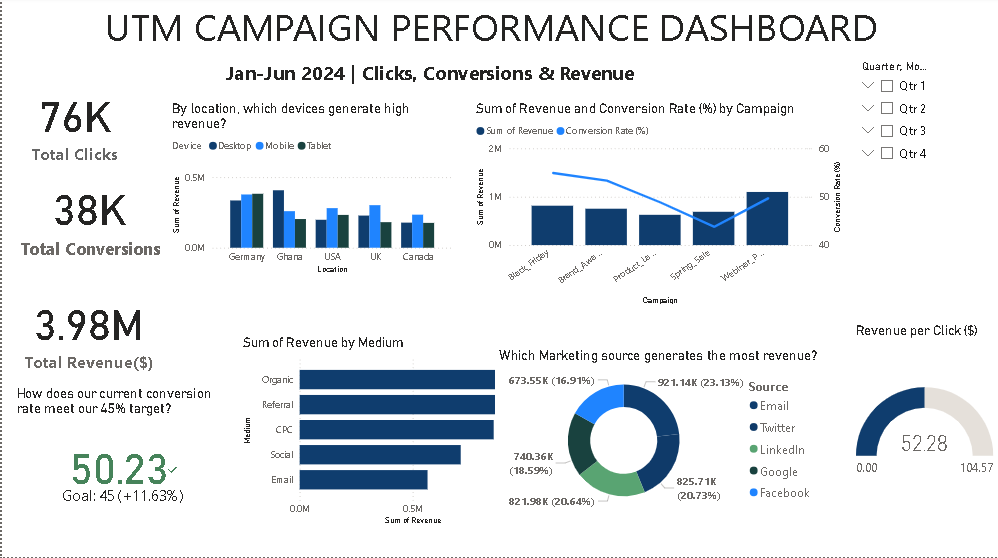

This screenshot's page, from the dashboard's own definition file:
{"tool":"powerbi","page":{"name":"Page 1","canvas":[1280,720],"ordinal":0},"visuals":[{"type":"barChart","fields":{"Category":["utm_campaign_data.Medium"],"Y":["Sum(utm_campaign_data.Revenue)"]},"box":[305.3,434.7,386.7,249.3],"z":0},{"type":"textbox","box":[15,419,281,281],"z":1},{"type":"textbox","box":[305.7,127.7,280.5,110.9],"z":2},{"type":"textbox","box":[127.7,0,1044.8,75.6],"z":3},{"type":"textbox","box":[282.7,76,641.3,52],"z":4},{"type":"card","fields":{"Values":["Sum(utm_campaign_data.Clicks)"]},"box":[0,102.7,188,117.3],"z":5},{"type":"card","fields":{"Values":["Sum(utm_campaign_data.Conversions)"]},"box":[14.7,220,198.7,125.3],"z":6},{"type":"card","fields":{"Values":["Sum(utm_campaign_data.Revenue)"]},"box":[12,360,201.3,137.3],"z":7},{"type":"donutChart","title":"Which Marketing source generates the most revenue?","fields":{"Category":["utm_campaign_data.Source"],"Y":["Sum(utm_campaign_data.Revenue)"]},"box":[633.3,450.7,420,218.7],"z":9},{"type":"lineClusteredColumnComboChart","fields":{"Category":["utm_campaign_data.Campaign"],"Y":["Sum(utm_campaign_data.Revenue)"],"Y2":["utm_campaign_data.Conversion Rate (%)"]},"box":[603.8,133.8,480,266.2],"z":10},{"type":"kpi","title":"How does our current conversion rate meet our 45% target?","fields":{"Indicator":["utm_campaign_data.Conversion Rate (%)"],"Goal":["utm_campaign_data.Cornversion Rate Target"],"TrendLine":["utm_campaign_data.Date.Variation.Date Hierarchy.Year"]},"box":[14.7,500,282.7,200],"z":11},{"type":"clusteredColumnChart","title":"By location, which devices generate high revenue?","fields":{"Category":["utm_campaign_data.Location"],"Series":["utm_campaign_data.Device"],"Y":["Sum(utm_campaign_data.Revenue)"]},"box":[213.3,133.3,370.7,226.7],"z":12},{"type":"slicer","fields":{"Values":["utm_campaign_data.Date.Variation.Date Hierarchy.Quarter","utm_campaign_data.Date.Variation.Date Hierarchy.Month"]},"box":[1093.3,76,118.7,206.7],"z":13},{"type":"gauge","title":"Revenue per Click ($)","fields":{"Y":["utm_campaign_data.Revenue per Click"]},"box":[1093.3,418.7,186.7,265.3],"z":14}]}

Visuals, with their boxes in screenshot pixels (x1, y1, x2, y2), scaled from the page's 1280x720 canvas onto the 998x558 screenshot:
barChart - utm_campaign_data.Medium x Sum(utm_campaign_data.Revenue): 238,337,540,530
textbox: 12,325,231,542
textbox: 238,99,457,185
textbox: 100,0,914,59
textbox: 220,59,720,99
card - Sum(utm_campaign_data.Clicks): 0,80,147,170
card - Sum(utm_campaign_data.Conversions): 11,170,166,268
card - Sum(utm_campaign_data.Revenue): 9,279,166,385
"Which Marketing source generates the most revenue?" donutChart: 494,349,821,519
lineClusteredColumnComboChart - utm_campaign_data.Campaign x Sum(utm_campaign_data.Revenue): 471,104,845,310
"How does our current conversion rate meet our 45% target?" kpi: 11,388,232,542
"By location, which devices generate high revenue?" clusteredColumnChart: 166,103,455,279
slicer - utm_campaign_data.Date.Variation.Date Hierarchy.Quarter x utm_campaign_data.Date.Variation.Date Hierarchy.Month: 852,59,945,219
"Revenue per Click ($)" gauge: 852,324,997,530
